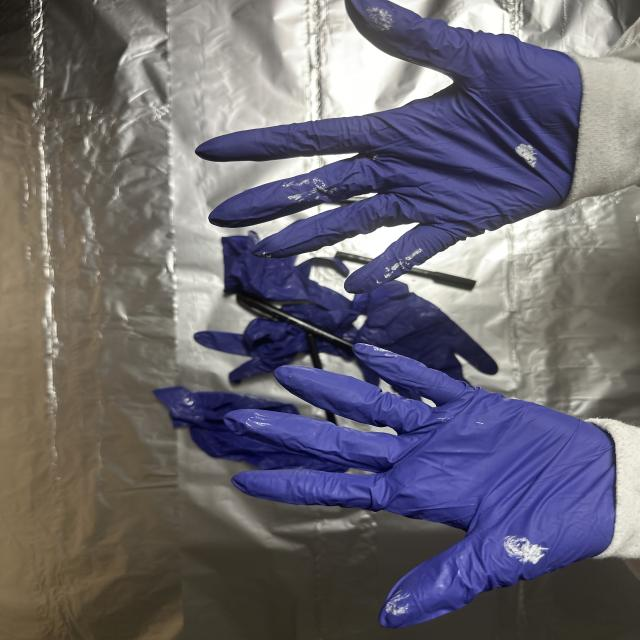gloves_contaminated: (196, 1, 582, 293), (225, 344, 614, 628)
